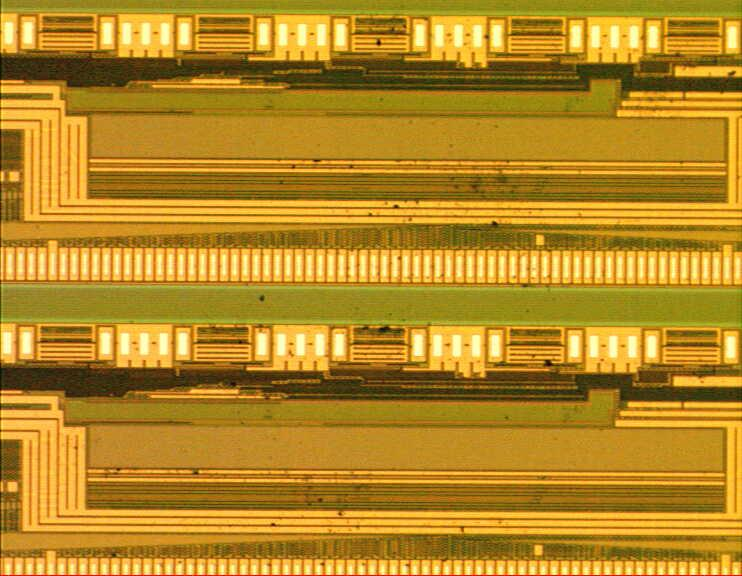PO CONTAMINATION: (97, 18, 559, 572)
